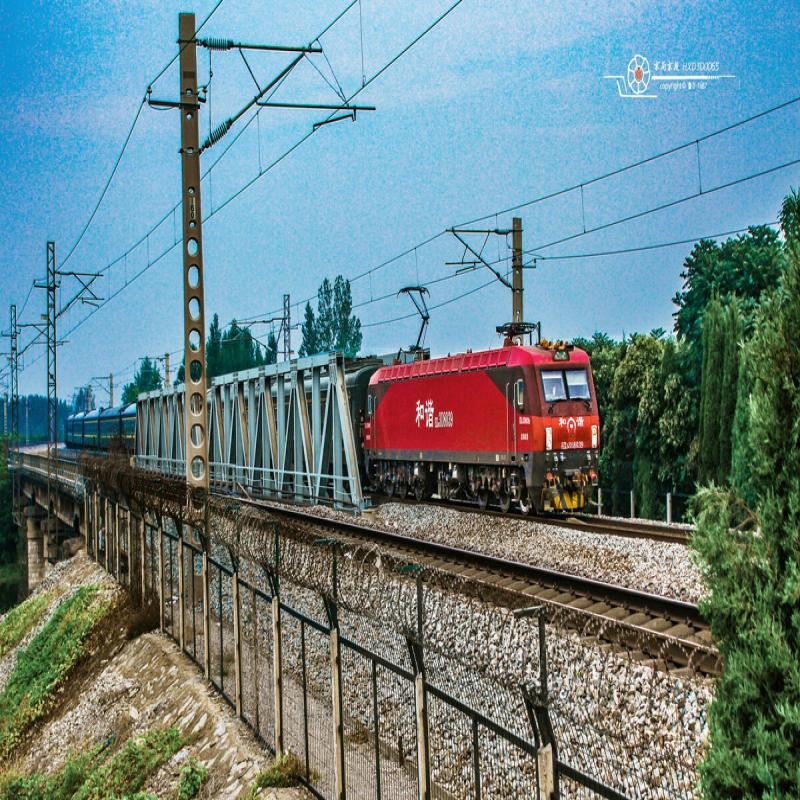train: (363, 334, 606, 525)
